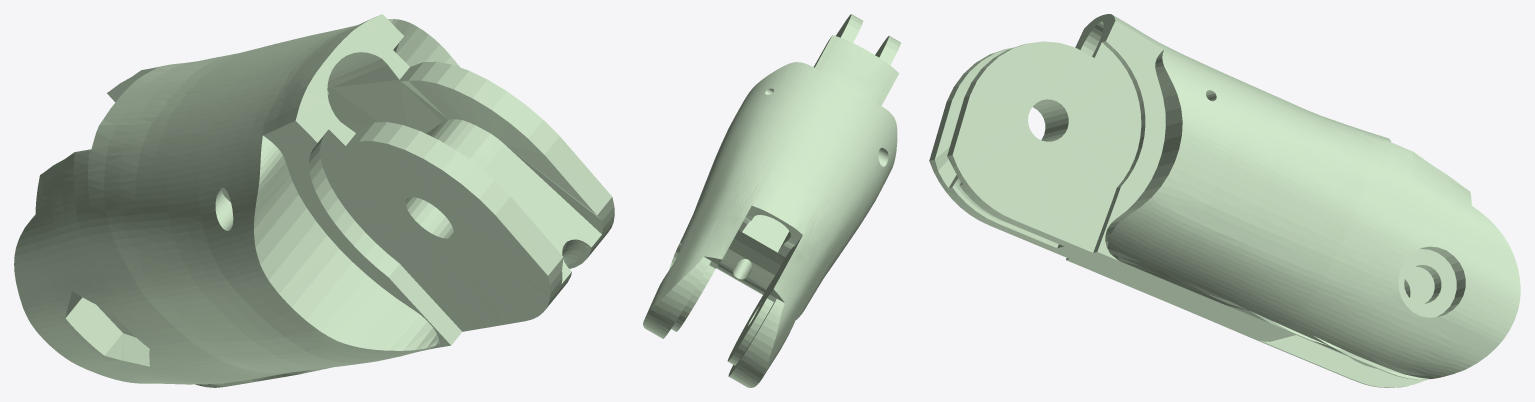
File: i02_rightHand_indexPhal_visual.obj.full.glb
The picture shows the model from 3 angles, left to right: view 1: azimuth 30°, elevation 25°; view 2: azimuth 150°, elevation 25°; view 3: azimuth 270°, elevation 25°; orthographic projection. The views are drawn at different scales.
Size of the model in its own units: 0.2049 by 0.3471 by 0.4992.
